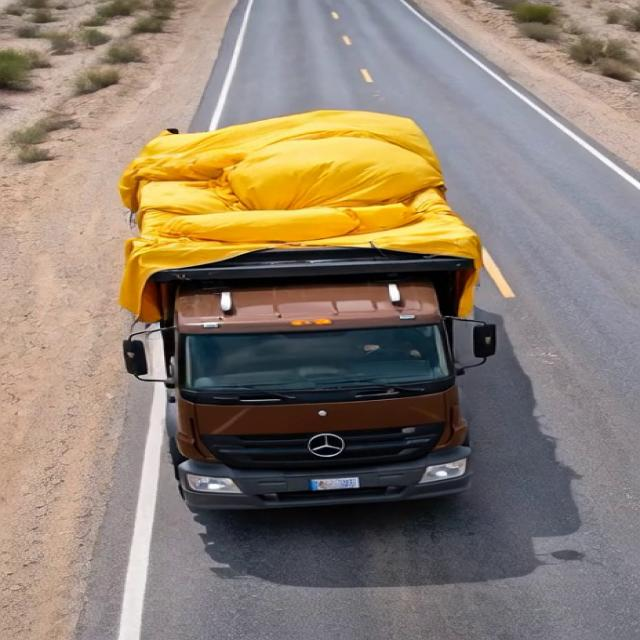Box: (75, 107, 529, 269)
